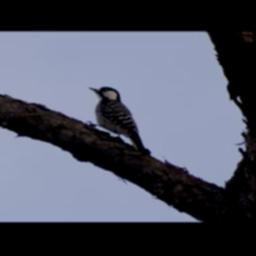Woodpecker: (82, 82, 157, 159)
